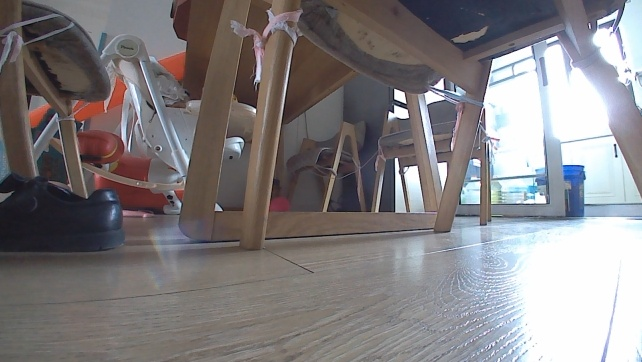cupboard: (561, 128, 641, 219)
dining_table1: (1, 0, 641, 265)
shoe: (0, 171, 128, 255)
